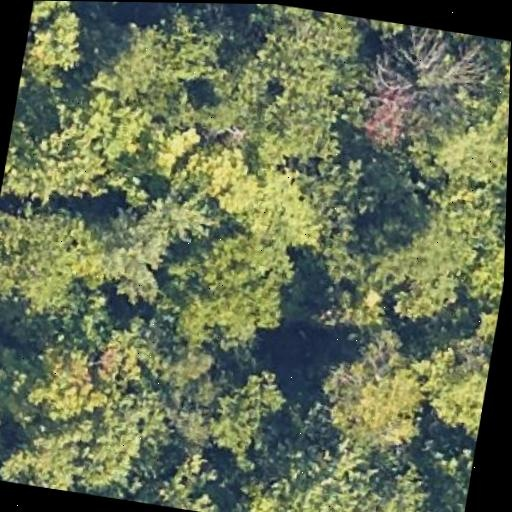tree-top: (0, 326, 167, 499), (210, 6, 370, 167), (158, 221, 317, 352), (299, 330, 439, 456), (85, 180, 214, 315), (84, 1, 235, 116), (238, 425, 437, 512), (187, 139, 336, 254), (325, 196, 482, 301), (0, 185, 110, 333), (0, 91, 134, 208), (365, 28, 493, 138), (415, 294, 500, 441), (193, 361, 294, 477), (18, 0, 95, 96), (480, 39, 511, 175), (0, 361, 9, 479)
